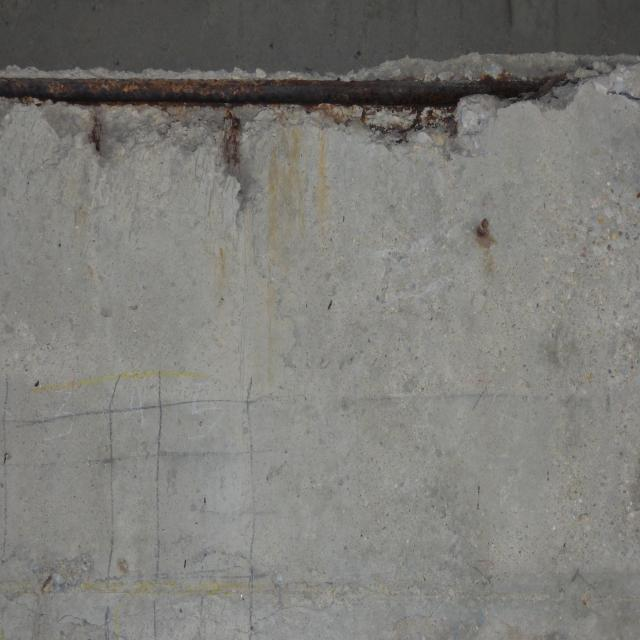corrosion: (0, 64, 568, 183), (258, 127, 350, 390), (468, 209, 506, 271)
